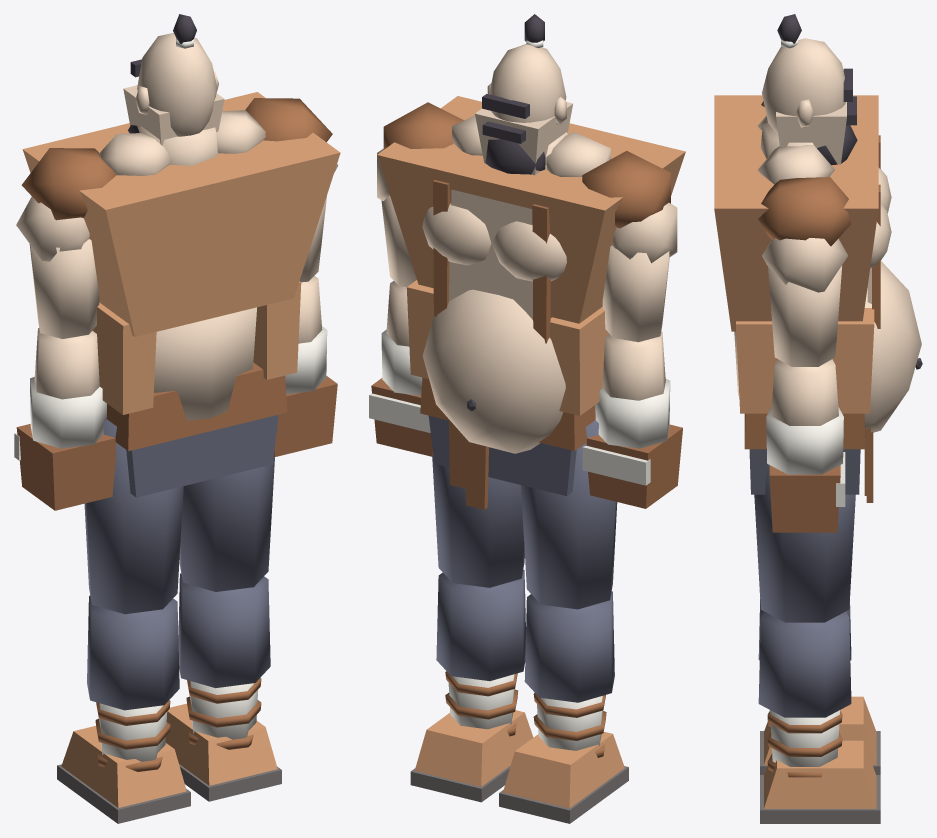
The model's file is fighter_bulk.glb.
3 renders of one model, left to right at view 1: azimuth 30°, elevation 25°; view 2: azimuth 150°, elevation 25°; view 3: azimuth 270°, elevation 25°, orthographic. The views are drawn at different scales.
Visible parts, largest first — view 1: chest, torso, pelvis, kn_l, kn_r, hip_l, hip_r, head, sh_l, el_l, an_l, an_r (+4 smaller); view 2: chest, torso, kn_l, kn_r, hip_l, head, pelvis, hip_r, an_l, sh_l, el_l, an_r (+4 smaller); view 3: chest, torso, kn_r, hip_r, head, sh_r, el_r, an_r, wr_r, pelvis, an_l.
Boxes of the visible parts, x1,y1,x2,y2 form: chest: (21,92,340,336); torso: (92,281,301,420); pelvis: (106,362,287,497); kn_l: (87,595,179,771); kn_r: (178,573,270,749); hip_l: (84,419,183,614); hip_r: (179,457,274,591); head: (123,14,224,145); sh_l: (16,196,99,338); el_l: (30,328,106,448); an_l: (57,726,190,823); an_r: (165,703,281,801); chest: (377,96,685,343); torso: (406,280,609,453); kn_l: (524,591,614,757); kn_r: (436,569,525,736); hip_l: (521,420,617,609); head: (475,14,572,175); pelvis: (420,377,595,509); hip_r: (432,456,524,587); an_l: (499,731,628,823); sh_l: (602,202,677,342); el_l: (595,331,670,448); an_r: (410,710,533,802); chest: (714,95,891,331); torso: (734,261,922,432); kn_r: (758,611,851,777); hip_r: (754,451,855,622); head: (762,14,857,165); sh_r: (762,238,848,366); el_r: (766,359,843,474); an_r: (760,740,880,823); wr_r: (769,452,845,532); pelvis: (744,413,873,502); an_l: (760,696,880,774).
Size of the model in its own units: 0.7989 by 1.96 by 0.482.
